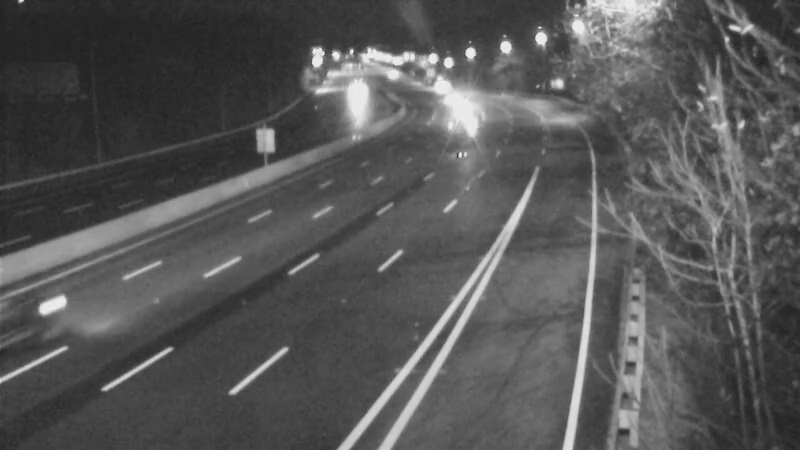vehicle: (1, 257, 96, 367), (366, 48, 416, 98), (415, 61, 465, 111), (425, 73, 475, 123), (441, 86, 491, 136), (332, 73, 382, 123)
